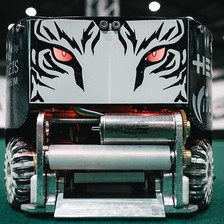robot: (1, 10, 220, 221)
